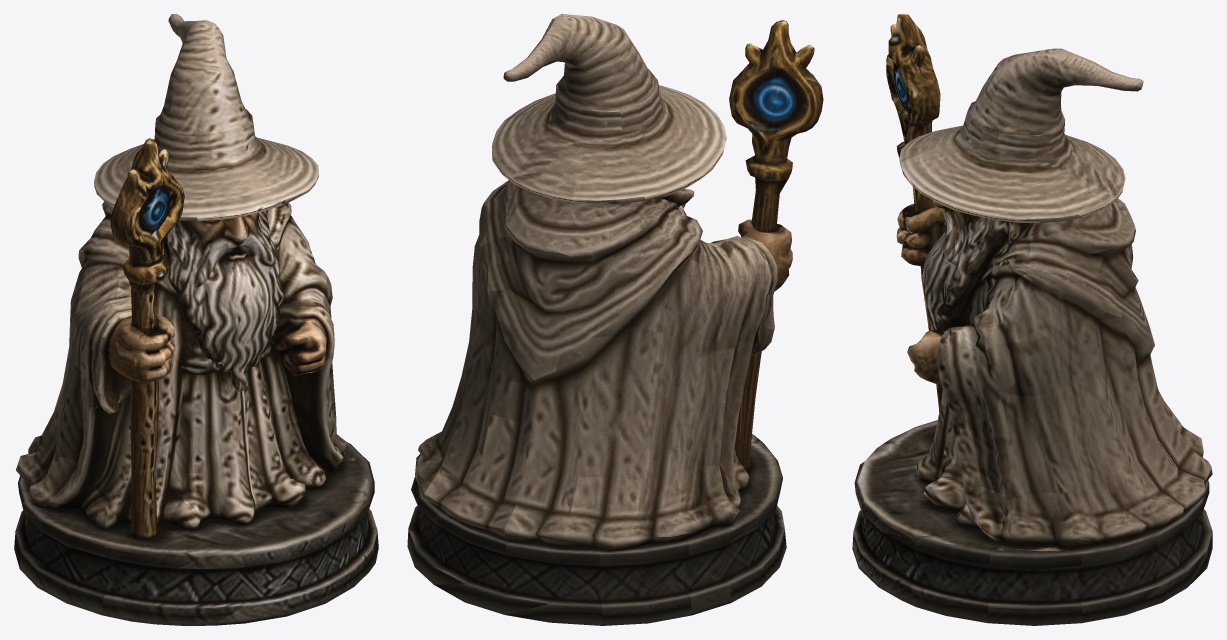
File: mage.glb
3 renders of one model, left to right at view 1: azimuth 30°, elevation 25°; view 2: azimuth 150°, elevation 25°; view 3: azimuth 270°, elevation 25°, orthographic. The views are drawn at different scales.
Visible parts, largest first — view 1: mesh_node; view 2: mesh_node; view 3: mesh_node.
Boxes of the visible parts, box(x1,y1,x2,y2) form: mesh_node: box(14, 14, 378, 625); mesh_node: box(407, 14, 823, 625); mesh_node: box(852, 14, 1212, 625).
Bounding box in the file's own units: 0.6484 × 1 × 0.6426.
Materials: 1 (1 with a texture image).
